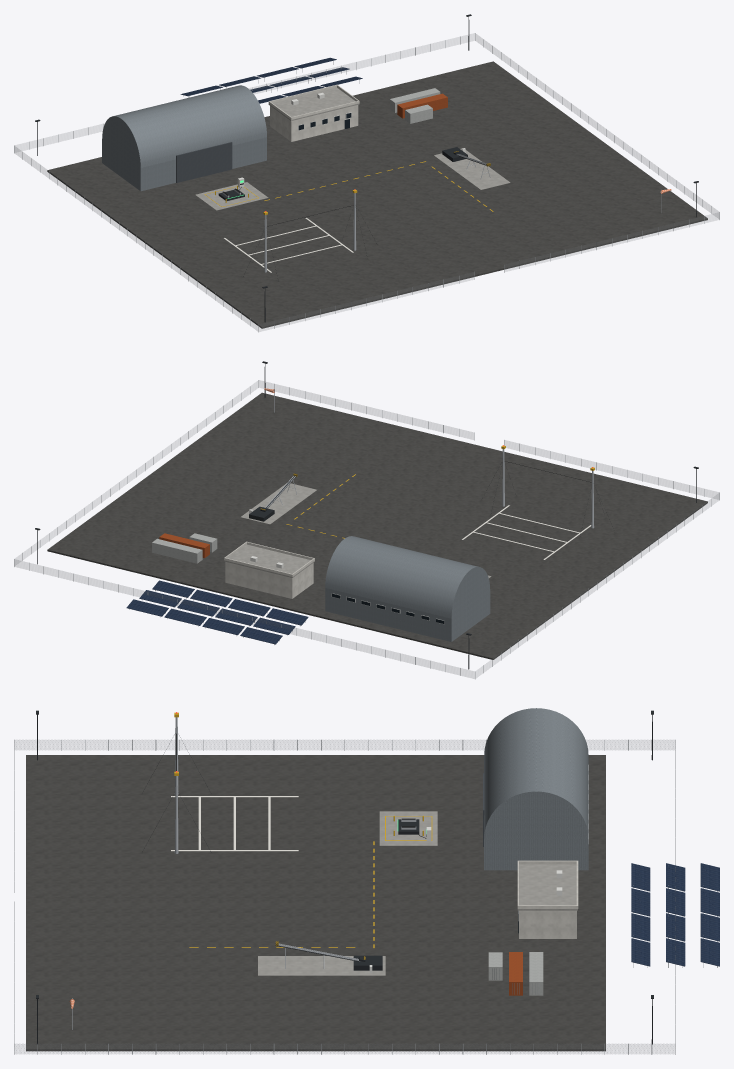
File: hub.glb
3 views of the same model, one above another, from view 1: azimuth 30°, elevation 25°; view 2: azimuth 150°, elevation 25°; view 3: azimuth 270°, elevation 25° (orthographic). The views are drawn at different scales.
Visible parts, largest first — view 1: hub_asphalt, hub_hangar_metal, hub_alpha_fence, hub_office_walls, hub_concrete, hub_hangar_door, hub_solar_panel, hub_steel, hub_office_roof, hub_container_white, hub_dark_steel, hub_container_orange (+1 smaller); view 2: hub_asphalt, hub_hangar_metal, hub_alpha_fence, hub_solar_panel, hub_office_walls, hub_steel, hub_office_roof, hub_concrete, hub_container_white, hub_dark_steel, hub_paint_white; view 3: hub_asphalt, hub_hangar_metal, hub_alpha_fence, hub_solar_panel, hub_concrete, hub_office_roof, hub_office_walls, hub_steel, hub_dark_steel, hub_container_white, hub_paint_white, hub_container_orange.
Boxes of the visible parts, x1,y1,x2,y2 form: hub_asphalt: (47,61,707,328); hub_hangar_metal: (102,85,266,191); hub_alpha_fence: (14,33,719,331); hub_office_walls: (268,84,359,141); hub_concrete: (195,148,510,210); hub_hangar_door: (176,142,232,182); hub_solar_panel: (180,57,362,103); hub_steel: (14,33,719,332); hub_office_roof: (268,87,359,120); hub_container_white: (390,88,440,123); hub_dark_steel: (35,14,698,322); hub_container_orange: (397,93,447,118); hub_asphalt: (47,392,707,659); hub_hangar_metal: (325,536,490,641); hub_alpha_fence: (14,380,719,678); hub_solar_panel: (126,580,308,644); hub_office_walls: (224,541,314,598); hub_steel: (14,380,719,679); hub_office_roof: (224,544,314,577); hub_concrete: (240,483,491,578); hub_container_white: (152,533,217,563); hub_dark_steel: (35,361,698,669); hub_paint_white: (462,505,591,559); hub_asphalt: (26,755,605,1051); hub_hangar_metal: (484,708,588,870); hub_alpha_fence: (14,740,674,1053); hub_solar_panel: (631,863,719,966); hub_concrete: (258,811,437,975); hub_office_roof: (517,864,577,910); hub_office_walls: (517,860,578,938); hub_steel: (14,717,717,1054); hub_dark_steel: (36,710,653,1044); hub_container_white: (488,952,543,995); hub_paint_white: (171,796,298,851); hub_container_orange: (509,952,522,995).
Size of the model in its own units: 124 by 16.05 by 122.
Materials: 23 (12 with a texture image).
